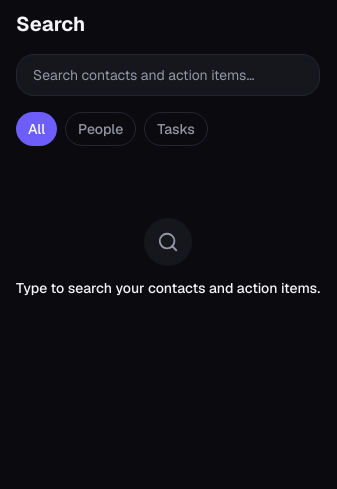
Scenario: SearchPage › filters results by tab: People hides Action Items, Tasks hides Contacts
Type "alice" into the field with placeholder "Search contacts and action items…".
click(168, 75); type("alice")  # box [16, 54, 320, 96]
Wait 300 ms
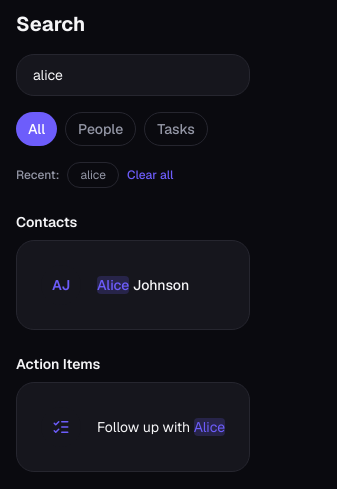
Check: the heading "Contacts" is shown, box [16, 213, 77, 231]
Check: the heading "Action Items" is shown, box [16, 355, 100, 373]
Click the button "People".
click(101, 129)  # box [65, 112, 136, 146]
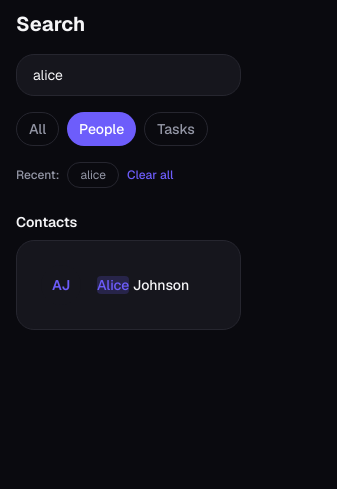
Check: the heading "Contacts" is shown, box [16, 213, 77, 231]
Check: the heading "Action Items" is gone
Click the button "Tasks".
click(176, 129)  # box [144, 112, 208, 146]
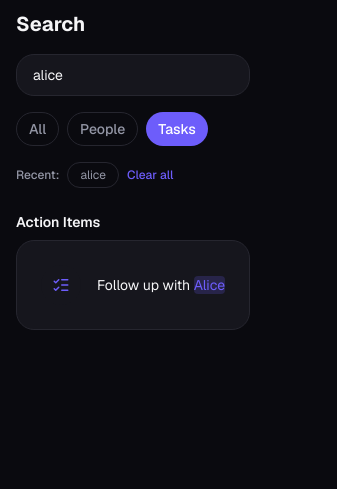
Check: the heading "Contacts" is gone
Check: the heading "Action Items" is shown, box [16, 213, 100, 231]
